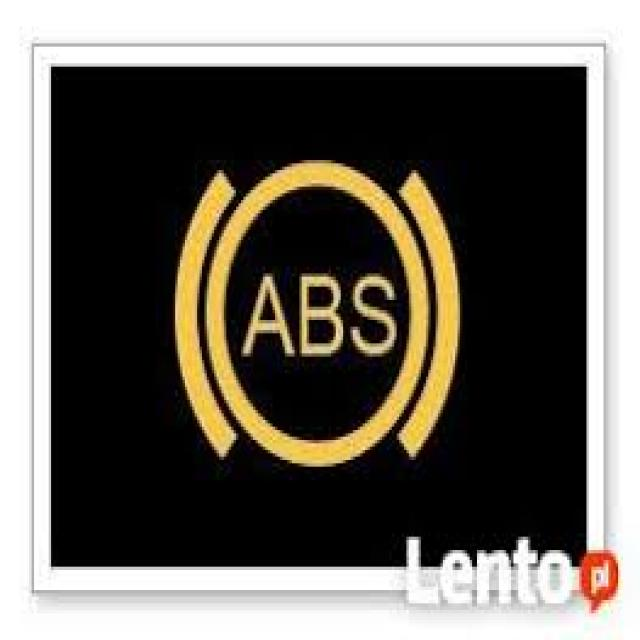kontrolka: (163, 148, 481, 482)
